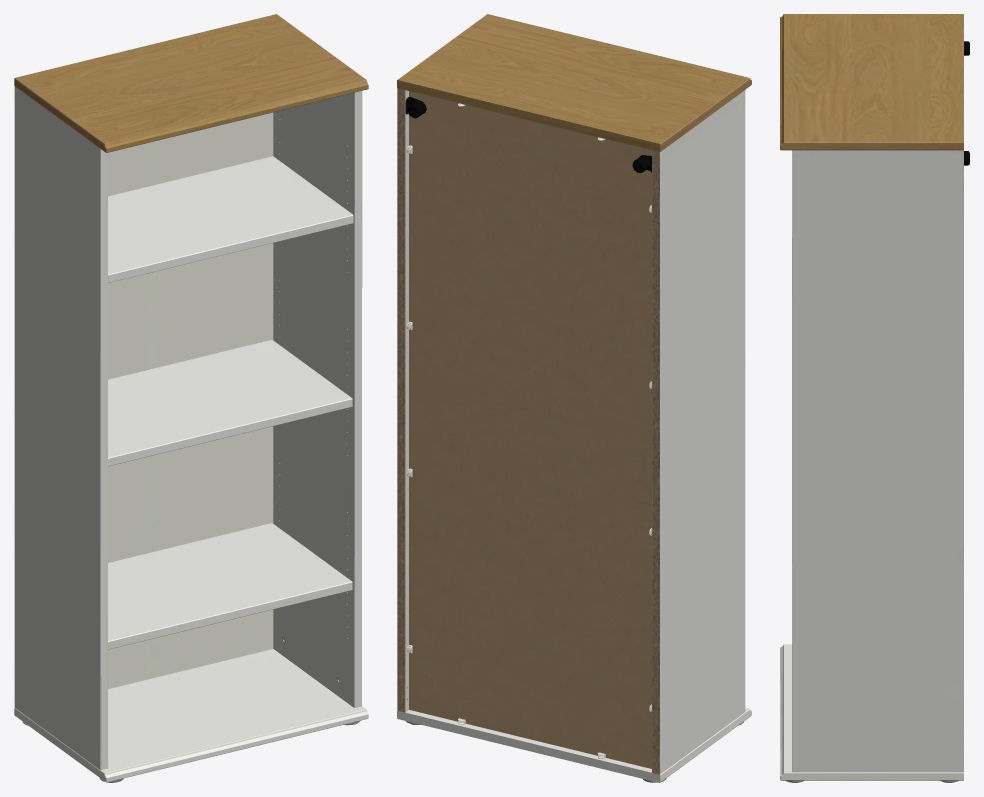
3 views of the same model, side by side, from view 1: azimuth 30°, elevation 25°; view 2: azimuth 150°, elevation 25°; view 3: azimuth 270°, elevation 25° (orthographic).
Parts seen in each view (by area): view 1: 40503546; view 2: 40503546; view 3: 40503546.
Part boxes in pixels (left/top/right/bottom): 40503546: left=14, top=14, right=368, bottom=782; 40503546: left=397, top=14, right=751, bottom=782; 40503546: left=780, top=14, right=969, bottom=782.
Size of the model in its own units: 0.5999 by 1.4 by 0.375.
Materials: 1 (1 with a texture image).
